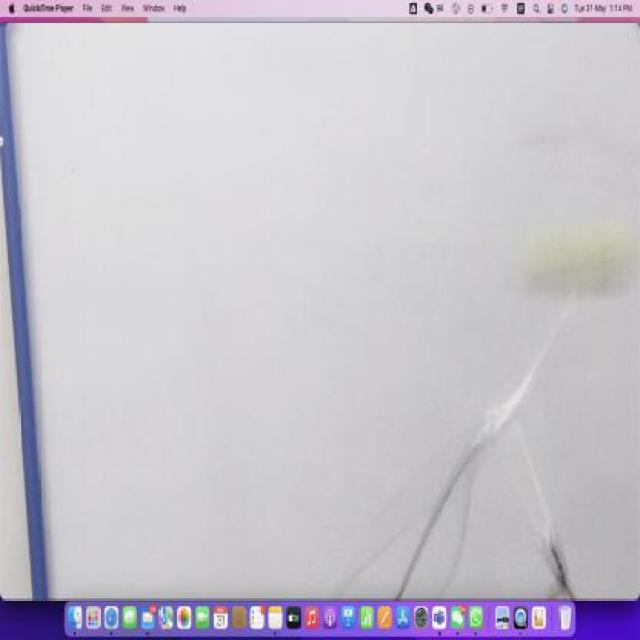baseball: (525, 220, 632, 306)
